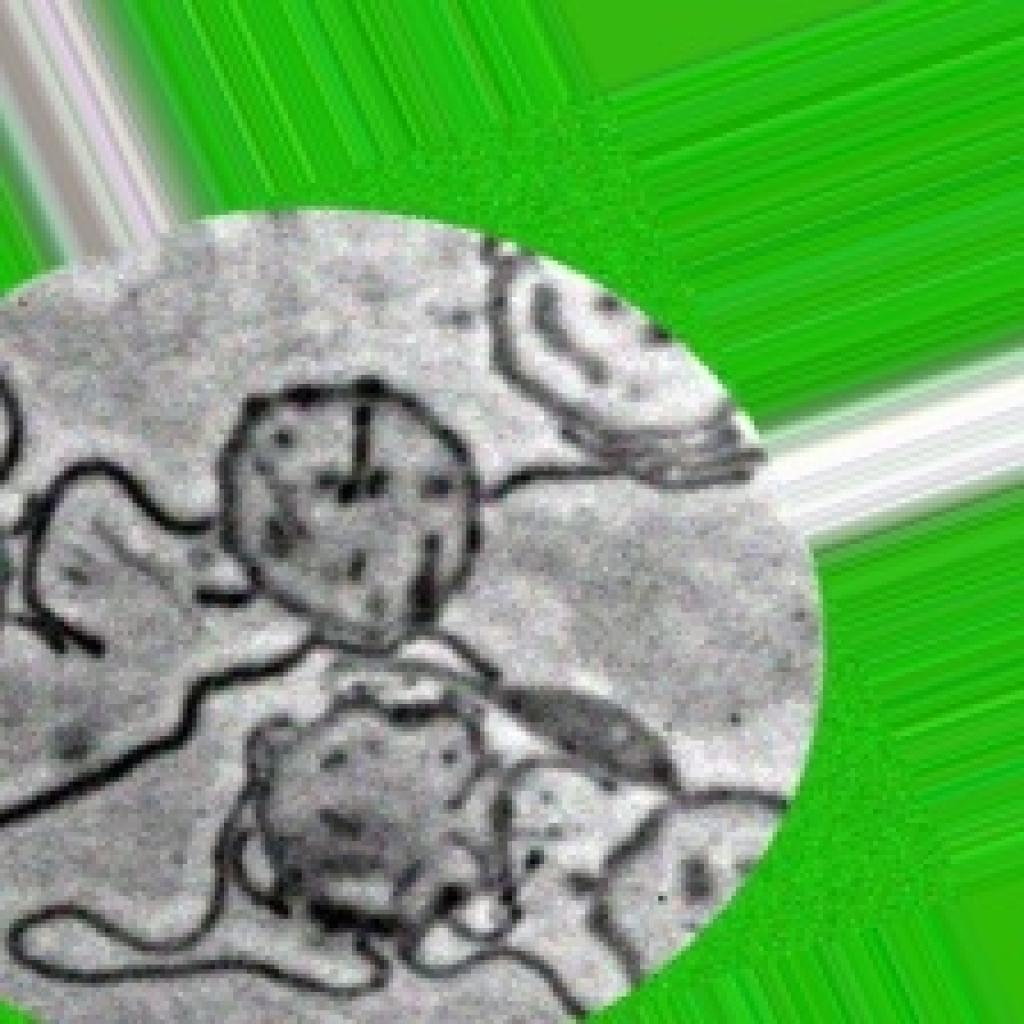Sprialbacteria: (0, 201, 809, 1020)
